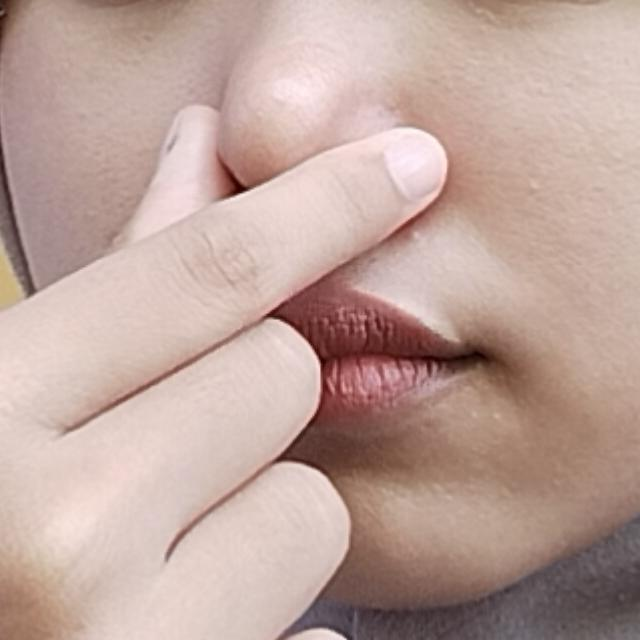bau: (0, 48, 546, 640)
